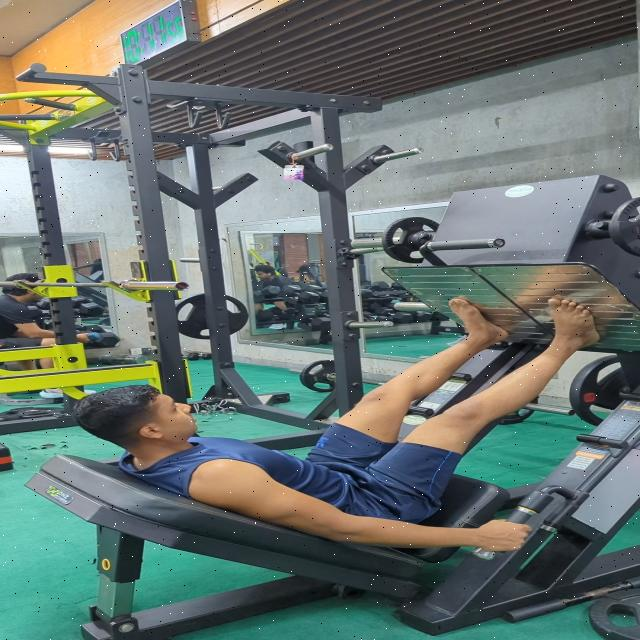Normal_LegPress: (68, 285, 640, 557)
